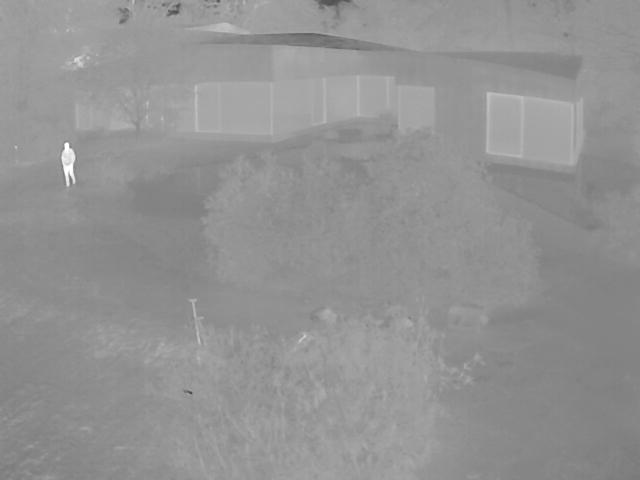person: (65, 142, 77, 186)
